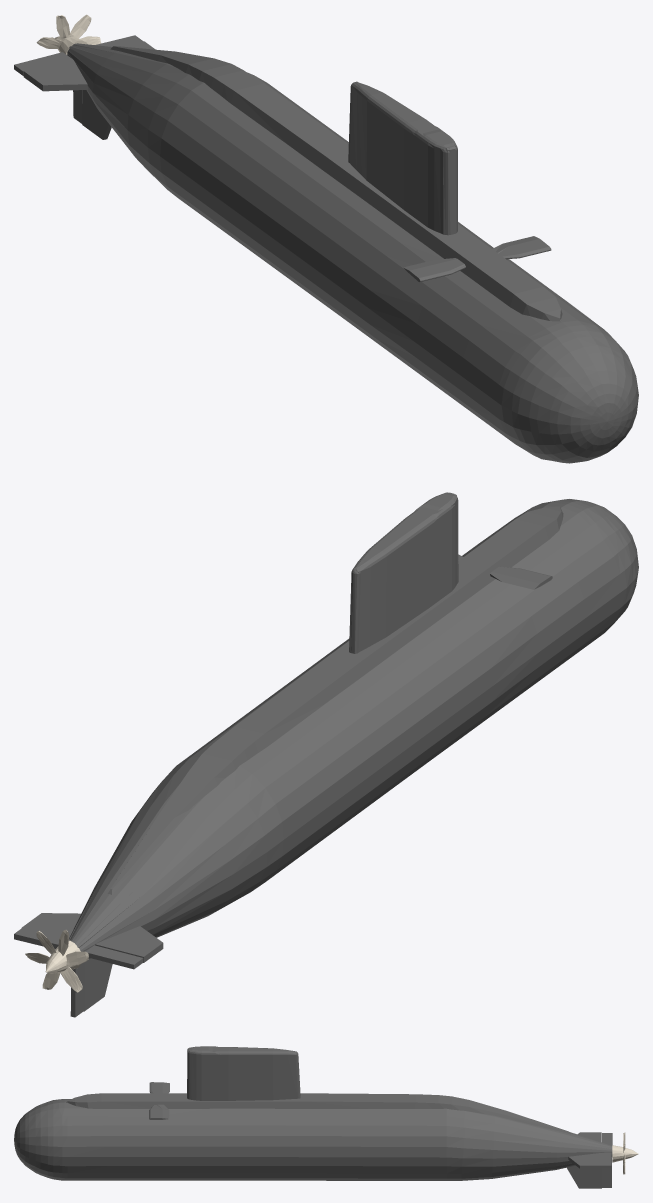
File: SUBSURFACE.glb
The picture shows the model from 3 angles, top to bottom: view 1: azimuth 30°, elevation 25°; view 2: azimuth 150°, elevation 25°; view 3: azimuth 270°, elevation 25°; orthographic projection. The views are drawn at different scales.
Visible parts, largest first — view 1: kilo.3ds_Group01_Capsule01_Geometry_0, kilo.3ds_Group01_ChamferBo0_Geometry_0, kilo.3ds_Group01_ChamferBox_Geometry_0, kilo.3ds_Group01_Planes_Geometry_0, kilo.3ds_Group01_Box23_Geometry_0, kilo.3ds_Group01_3DSPIVOTPOINT: Rotate_3DSPIVOTPOINT: Transl, kilo.3ds_Group01_rudder_Geometry_0; view 2: kilo.3ds_Group01_Capsule01_Geometry_0, kilo.3ds_Group01_ChamferBo0_Geometry_0, kilo.3ds_Group01_ChamferBox_Geometry_0, kilo.3ds_Group01_3DSPIVOTPOINT: Rotate_3DSPIVOTPOINT: Transl, kilo.3ds_Group01_Box23_Geometry_0, kilo.3ds_Group01_rudder_Geometry_0, kilo.3ds_Group01_Box01a_Geometry_0, kilo.3ds_Group01_Planes_Geometry_0, kilo.3ds_Group01_Box05_Geometry_0; view 3: kilo.3ds_Group01_Capsule01_Geometry_0, kilo.3ds_Group01_ChamferBo0_Geometry_0, kilo.3ds_Group01_ChamferBox_Geometry_0, kilo.3ds_Group01_rudder_Geometry_0, kilo.3ds_Group01_Planes_Geometry_0, kilo.3ds_Group01_Box01a_Geometry_0, kilo.3ds_Group01_3DSPIVOTPOINT: Rotate_3DSPIVOTPOINT: Transl.
Part boxes in pixels (x1,y1,x2,y2): kilo.3ds_Group01_Capsule01_Geometry_0: [67, 43, 638, 463]; kilo.3ds_Group01_ChamferBo0_Geometry_0: [110, 46, 562, 321]; kilo.3ds_Group01_ChamferBox_Geometry_0: [348, 81, 457, 235]; kilo.3ds_Group01_Planes_Geometry_0: [403, 236, 551, 281]; kilo.3ds_Group01_Box23_Geometry_0: [23, 58, 88, 91]; kilo.3ds_Group01_3DSPIVOTPOINT: Rotate_3DSPIVOTPOINT: Transl: [36, 14, 101, 54]; kilo.3ds_Group01_rudder_Geometry_0: [82, 90, 111, 139]; kilo.3ds_Group01_Capsule01_Geometry_0: [68, 499, 638, 958]; kilo.3ds_Group01_ChamferBo0_Geometry_0: [107, 506, 563, 894]; kilo.3ds_Group01_ChamferBox_Geometry_0: [349, 492, 458, 653]; kilo.3ds_Group01_3DSPIVOTPOINT: Rotate_3DSPIVOTPOINT: Transl: [25, 929, 88, 992]; kilo.3ds_Group01_Box23_Geometry_0: [95, 926, 163, 962]; kilo.3ds_Group01_rudder_Geometry_0: [83, 958, 112, 1011]; kilo.3ds_Group01_Box01a_Geometry_0: [22, 913, 80, 937]; kilo.3ds_Group01_Planes_Geometry_0: [458, 554, 552, 589]; kilo.3ds_Group01_Box05_Geometry_0: [86, 945, 143, 969]; kilo.3ds_Group01_Capsule01_Geometry_0: [14, 1099, 612, 1180]; kilo.3ds_Group01_ChamferBo0_Geometry_0: [66, 1093, 570, 1134]; kilo.3ds_Group01_ChamferBox_Geometry_0: [187, 1046, 300, 1100]; kilo.3ds_Group01_rudder_Geometry_0: [567, 1165, 601, 1188]; kilo.3ds_Group01_Planes_Geometry_0: [149, 1082, 169, 1119]; kilo.3ds_Group01_Box01a_Geometry_0: [568, 1152, 601, 1168]; kilo.3ds_Group01_3DSPIVOTPOINT: Rotate_3DSPIVOTPOINT: Transl: [612, 1132, 638, 1174].
Size of the model in its own units: 10.13 by 18.23 by 74.18.
